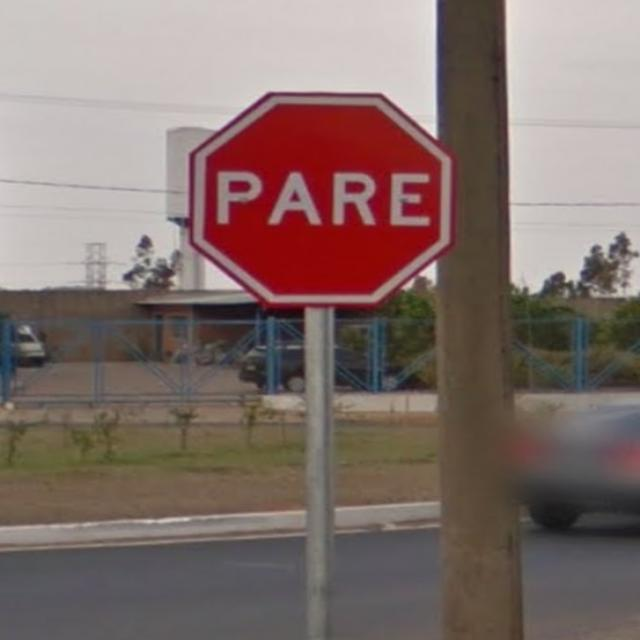stop: (164, 74, 468, 342)
